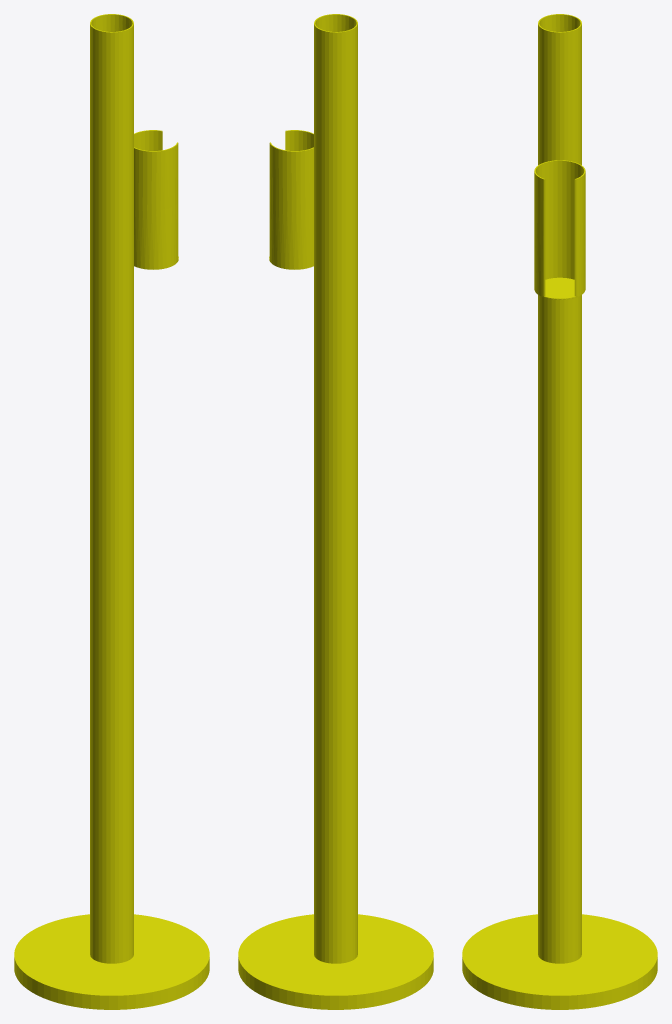
The model's file is c_mission.dae.
3 renders of one model, left to right at view 1: azimuth 30°, elevation 25°; view 2: azimuth 150°, elevation 25°; view 3: azimuth 270°, elevation 25°, orthographic.
Visible parts, largest first — view 1: Hedef; view 2: Hedef; view 3: Hedef.
Boxes of the visible parts, x1=… form: Hedef: x1=14, y1=14, x2=209, y2=1009; Hedef: x1=238, y1=14, x2=433, y2=1009; Hedef: x1=462, y1=14, x2=657, y2=1009.
Size of the model in its own units: 0.15 by 0.15 by 0.8.
